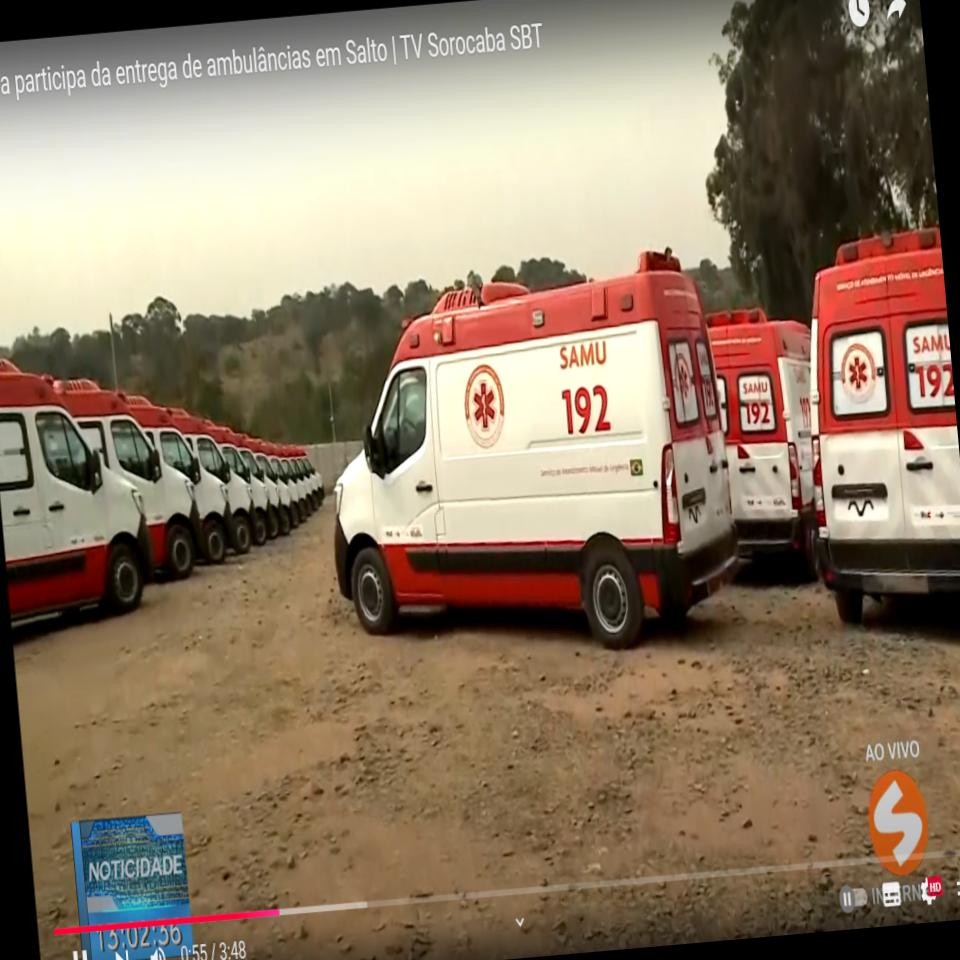bombeiro: (310, 246, 750, 680)
